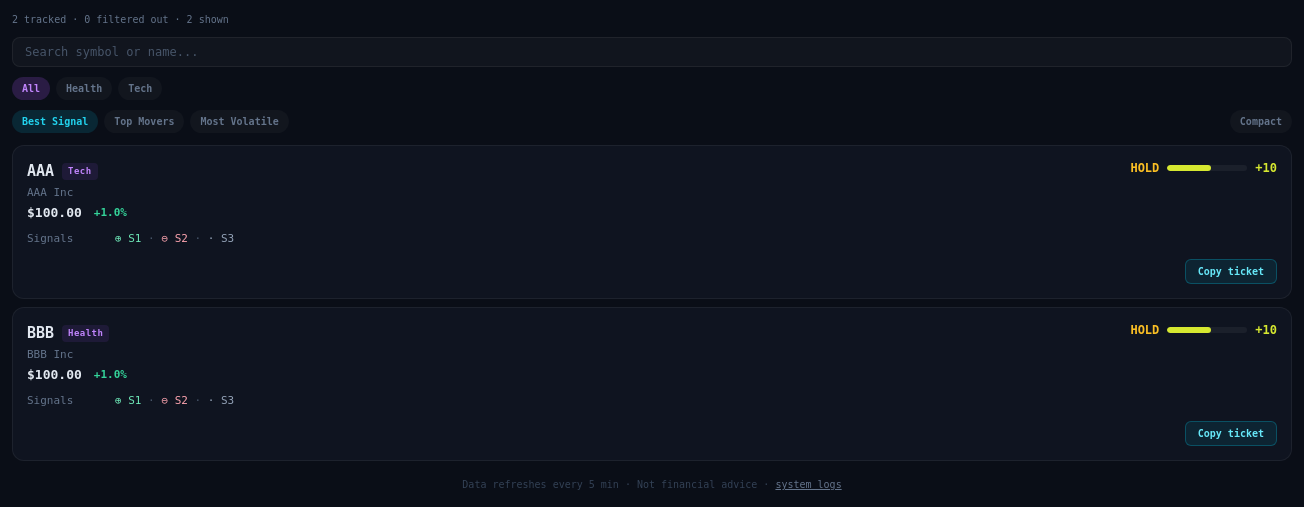
it: ScannerView › filters by sector
Click the button "Health": (84, 88) [56,77,112,100]
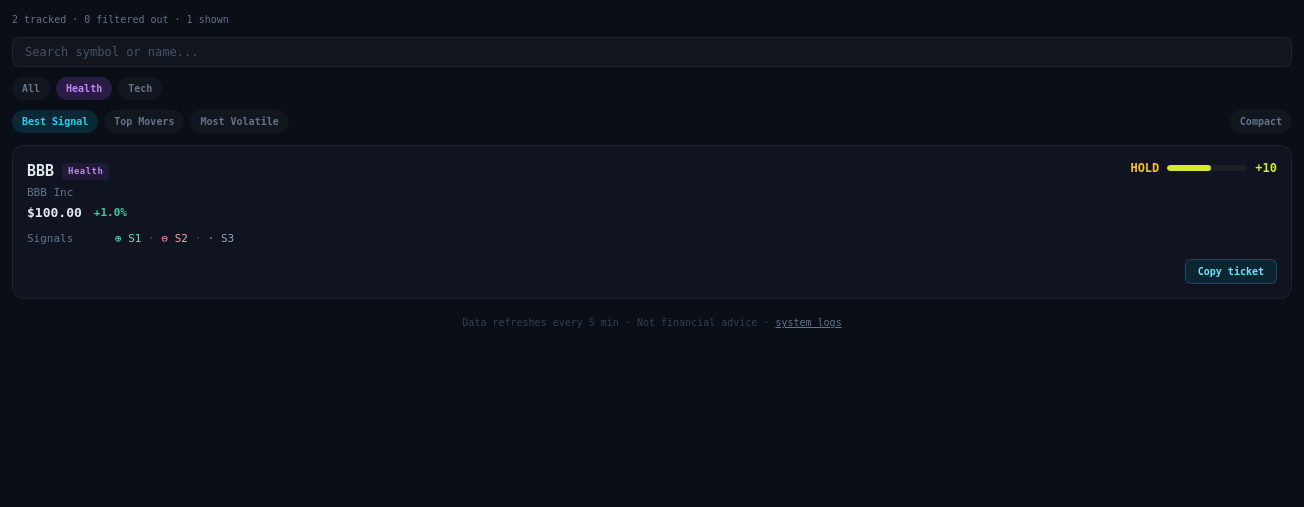
Check: the text "BBB" is shown, box [27,160,54,182]
Check: the text "AAA" is gone
